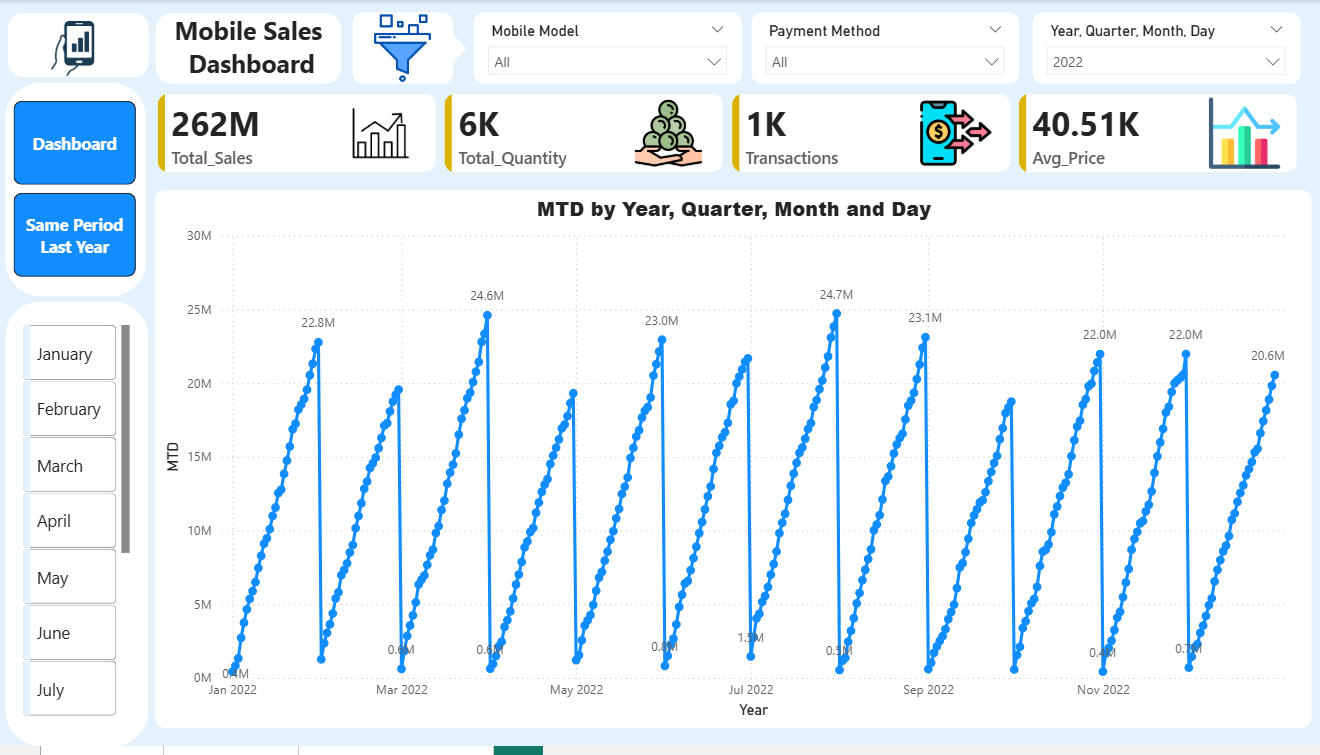

The dashboard page shown, as its layout file describes it:
{"tool":"powerbi","page":{"name":"MTD Report","canvas":[1280,720],"ordinal":1},"visuals":[{"type":"image","box":[341.6,11.5,96.6,69.2],"z":0,"group":"g2"},{"type":"shape","box":[8.2,12.1,136.3,62.7],"z":0},{"type":"shape","box":[412.2,29.5,38.9,33.2],"z":1000,"group":"g2"},{"type":"shape","box":[6,79.6,136.3,206.3],"z":1000},{"type":"image","box":[45.4,5.8,62,75],"z":2000},{"type":"group","id":"g1","title":"Group 1","box":[141.3,77.8,1125.8,99.5],"z":3000},{"type":"slicer","fields":{"Values":["Sales Data.Mobile Model"]},"box":[458.4,11.5,258,69.2],"z":4000},{"type":"slicer","fields":{"Values":["Sales Data.Payment Method"]},"box":[726.3,12.1,258.2,68.8],"z":5000},{"type":"cardVisual","fields":{"Data":["Sales Data.Total_Sales","Sales Data.Total_Quantity","Sales Data.Transactions","Sales Data.Avg_Price"]},"box":[141.3,77.8,1125.8,100.4],"z":5000,"group":"g1"},{"type":"slicer","fields":{"Values":["Custom Calender.Date.Variation.Date Hierarchy.Year","Custom Calender.Date.Variation.Date Hierarchy.Quarter","Custom Calender.Date.Variation.Date Hierarchy.Month","Custom Calender.Date.Variation.Date Hierarchy.Day"]},"box":[997.7,12.1,258.2,68.8],"z":6000},{"type":"image","box":[319.4,93.6,97.8,68.8],"z":6000,"group":"g1"},{"type":"group","id":"g2","title":"Group 2","box":[341.6,11.5,109.5,69.2],"z":7000},{"type":"image","box":[597.4,93.6,97.8,68.8],"z":7000,"group":"g1"},{"type":"shape","box":[151.4,11.5,180,69.2],"z":8000},{"type":"image","box":[875.3,93.6,97.8,68.8],"z":8000,"group":"g1"},{"type":"textbox","box":[141.3,8.6,198.9,75],"z":9000},{"type":"image","box":[1153.2,93.6,97.8,68.8],"z":9000,"group":"g1"},{"type":"lineChart","fields":{"Y":["Sales Data.MTD"],"Category":["Custom Calender.Date.Variation.Date Hierarchy.Year","Custom Calender.Date.Variation.Date Hierarchy.Quarter","Custom Calender.Date.Variation.Date Hierarchy.Month","Custom Calender.Date.Variation.Date Hierarchy.Day"]},"box":[151.4,183.1,1115.7,518.9],"z":10000},{"type":"shape","box":[5.8,290.5,138.4,429.5],"z":11000},{"type":"advancedSlicerVisual","fields":{"Values":["Custom Calender.Date.Variation.Date Hierarchy.Month"]},"box":[18.4,308.5,113.9,393.5],"z":12000},{"type":"pageNavigator","box":[12.9,96.6,120,173],"z":13000}]}

Visuals, with their boxes in screenshot pixels (x1, y1, x2, y2), scaled from the page's 1280x720 canvas onto the 1320x755 screenshot:
image: <bbox>352, 12, 452, 85</bbox>
shape: <bbox>8, 13, 149, 78</bbox>
shape: <bbox>425, 31, 465, 66</bbox>
shape: <bbox>6, 83, 147, 300</bbox>
image: <bbox>47, 6, 111, 85</bbox>
"Group 1" group: <bbox>146, 82, 1307, 186</bbox>
slicer - Sales Data.Mobile Model: <bbox>473, 12, 739, 85</bbox>
slicer - Sales Data.Payment Method: <bbox>749, 13, 1015, 85</bbox>
cardVisual - Sales Data.Total_Sales x Sales Data.Total_Quantity: <bbox>146, 82, 1307, 187</bbox>
slicer - Custom Calender.Date.Variation.Date Hierarchy.Year x Custom Calender.Date.Variation.Date Hierarchy.Quarter: <bbox>1029, 13, 1295, 85</bbox>
image: <bbox>329, 98, 430, 170</bbox>
"Group 2" group: <bbox>352, 12, 465, 85</bbox>
image: <bbox>616, 98, 717, 170</bbox>
shape: <bbox>156, 12, 342, 85</bbox>
image: <bbox>903, 98, 1004, 170</bbox>
textbox: <bbox>146, 9, 351, 88</bbox>
image: <bbox>1189, 98, 1290, 170</bbox>
lineChart - Sales Data.MTD x Custom Calender.Date.Variation.Date Hierarchy.Year: <bbox>156, 192, 1307, 736</bbox>
shape: <bbox>6, 305, 149, 754</bbox>
advancedSlicerVisual - Custom Calender.Date.Variation.Date Hierarchy.Month: <bbox>19, 323, 136, 736</bbox>
pageNavigator: <bbox>13, 101, 137, 283</bbox>
